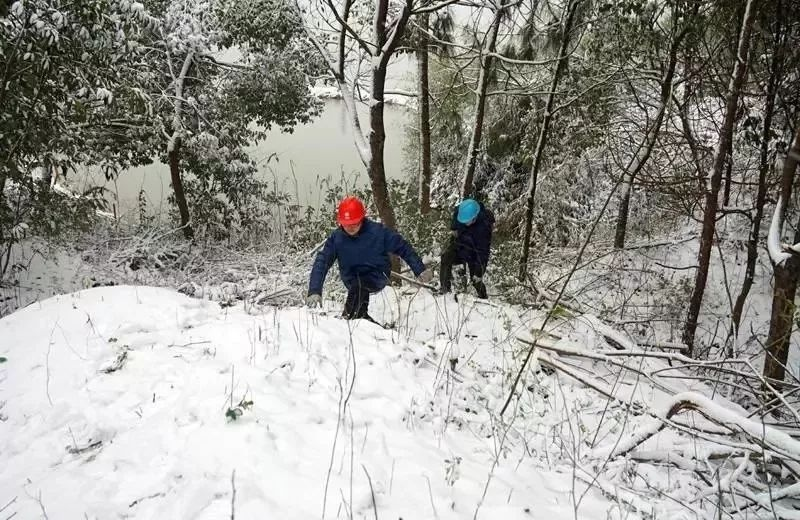blue: (453, 197, 481, 225)
red: (331, 195, 365, 236)
